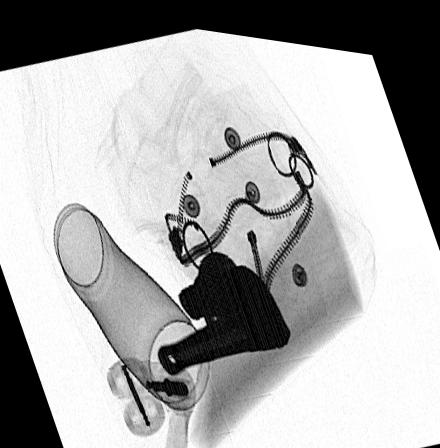Wrench: (156, 241, 294, 372)
